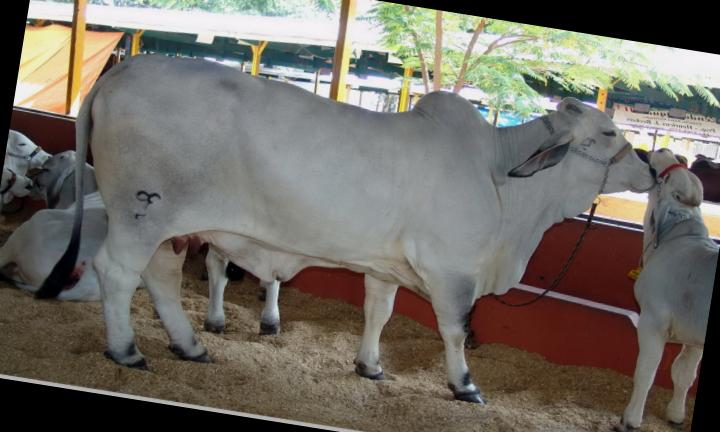Brahman: (77, 54, 653, 402), (616, 148, 720, 432)
